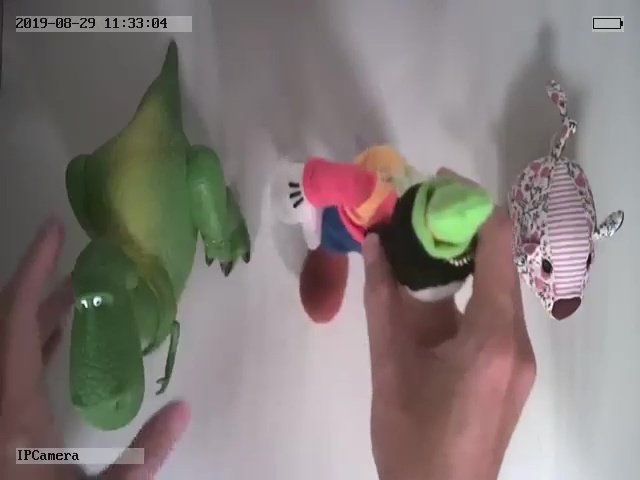goofy: (272, 143, 494, 322)
pig: (510, 76, 626, 322)
rex: (64, 38, 252, 430)
